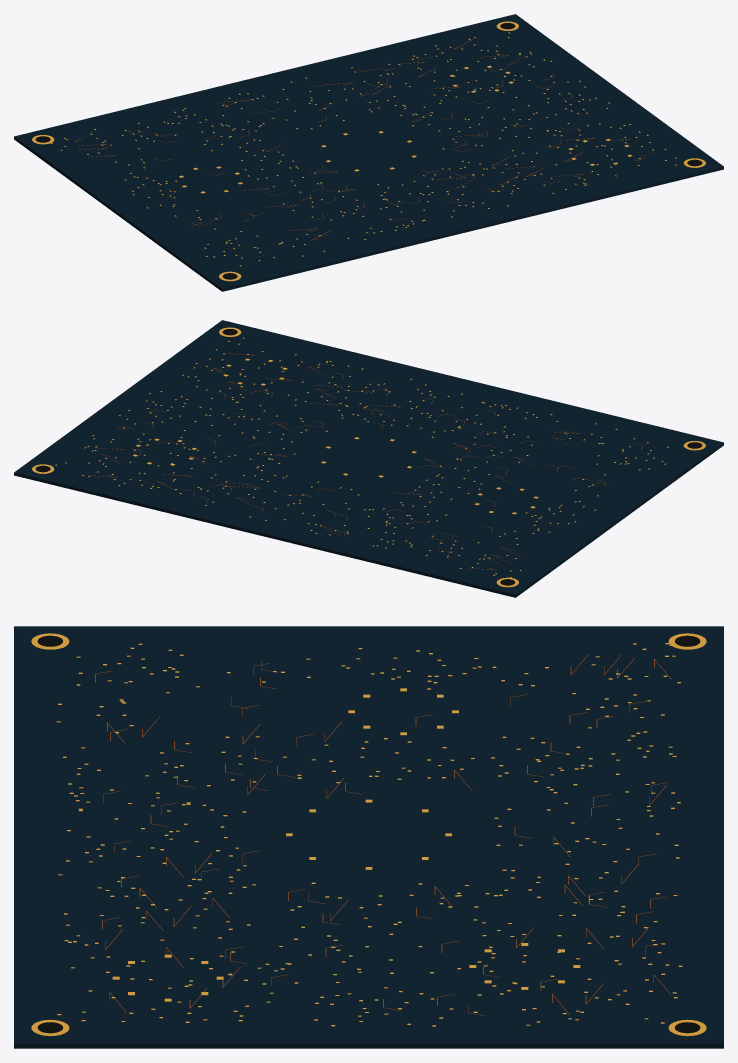
The model's file is 113_L107_PFX15_BarePCB.fbx.
The picture shows the model from 3 angles, top to bottom: view 1: azimuth 30°, elevation 25°; view 2: azimuth 150°, elevation 25°; view 3: azimuth 270°, elevation 25°; orthographic projection. The views are drawn at different scales.
Parts seen in each view (by area): view 1: 107_L106_SFX14_BarePCB_000; view 2: 107_L106_SFX14_BarePCB_000; view 3: 107_L106_SFX14_BarePCB_000.
Boxes of the visible parts, <box> form: 107_L106_SFX14_BarePCB_000: <box>14,14,723,291</box>; 107_L106_SFX14_BarePCB_000: <box>14,320,723,597</box>; 107_L106_SFX14_BarePCB_000: <box>14,626,723,1048</box>.
Size of the model in its own units: 0.285 by 0.205 by 0.0018.
